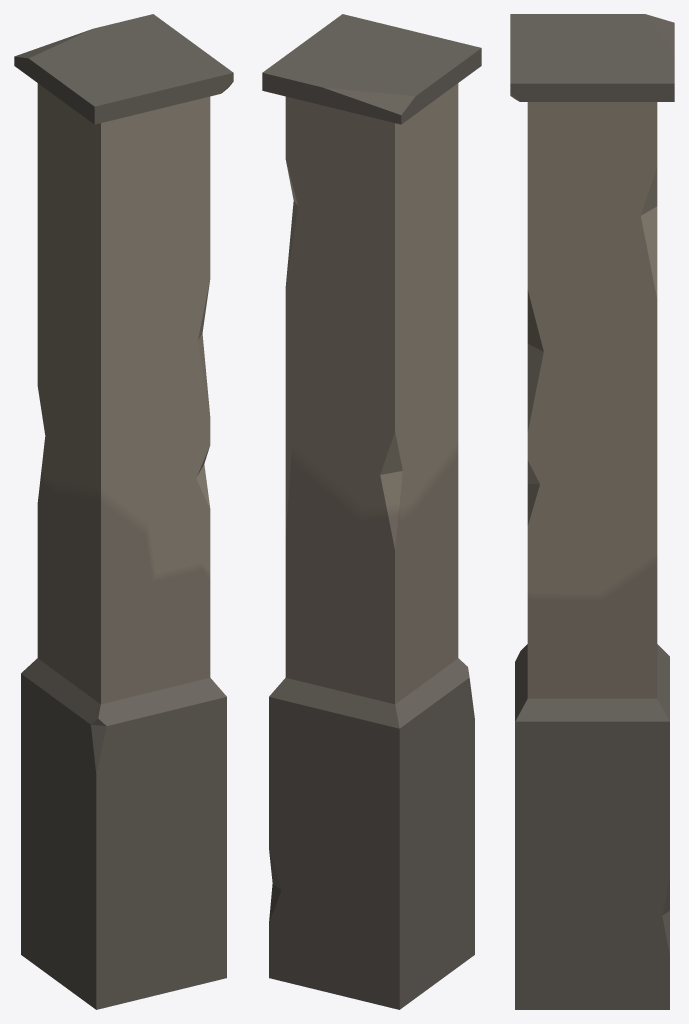
Rendered from SM_Prop_Fence_Concrete_Pillar_01.fbx.
3 views of the same model, side by side, from view 1: azimuth 30°, elevation 25°; view 2: azimuth 150°, elevation 25°; view 3: azimuth 270°, elevation 25° (orthographic). The views are drawn at different scales.
Parts seen in each view (by area): view 1: SM_Prop_Fence_Concrete_Pillar_01; view 2: SM_Prop_Fence_Concrete_Pillar_01; view 3: SM_Prop_Fence_Concrete_Pillar_01.
Boxes of the visible parts, <box> form: SM_Prop_Fence_Concrete_Pillar_01: <box>14,14,233,1009</box>; SM_Prop_Fence_Concrete_Pillar_01: <box>262,14,481,1009</box>; SM_Prop_Fence_Concrete_Pillar_01: <box>510,14,674,1009</box>.
Bounding box in the file's own units: 43.44 × 270 × 43.44.
